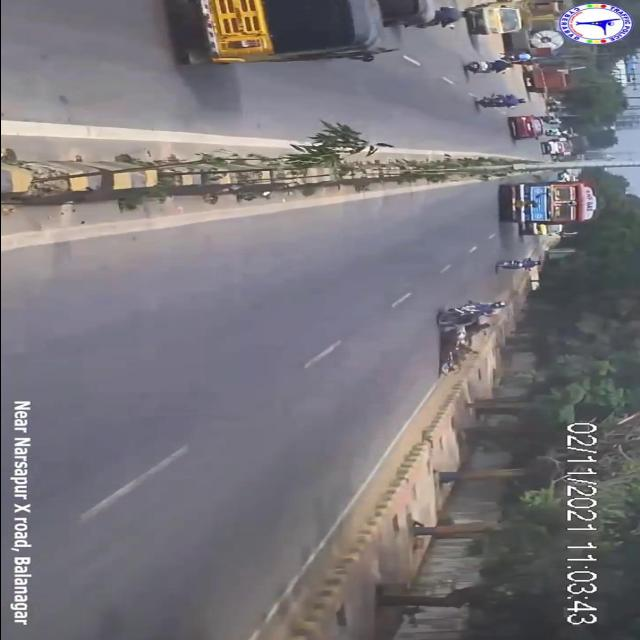accident: (423, 297, 513, 377)
non_accident: (154, 0, 477, 69), (493, 174, 601, 239), (526, 132, 598, 162)
